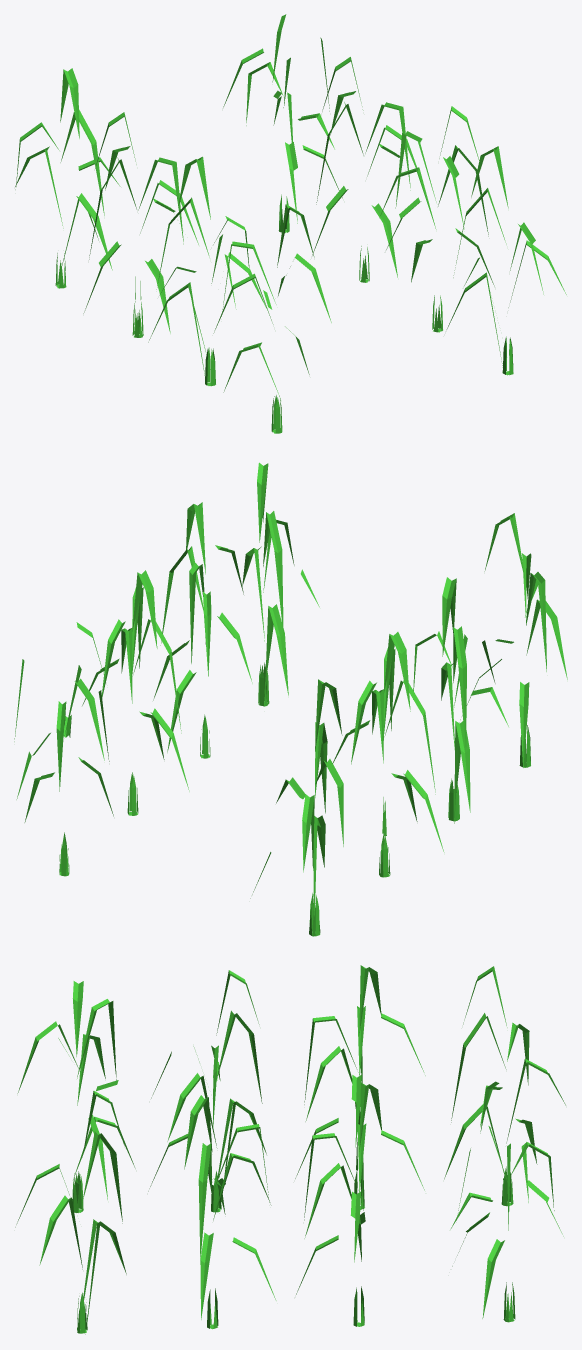
The model's file is rice.glb.
The picture shows the model from 3 angles, top to bottom: view 1: azimuth 30°, elevation 25°; view 2: azimuth 150°, elevation 25°; view 3: azimuth 270°, elevation 25°; orthographic projection. The views are drawn at different scales.
Visible parts, largest first — view 1: Cube.006; view 2: Cube.006; view 3: Cube.006.
Part boxes in pixels (bbox=[...]): Cube.006: bbox=[15, 14, 566, 433]; Cube.006: bbox=[14, 462, 567, 936]; Cube.006: bbox=[15, 965, 565, 1334].
Bounding box in the file's own units: 0.7437 × 0.4788 × 0.9946.
